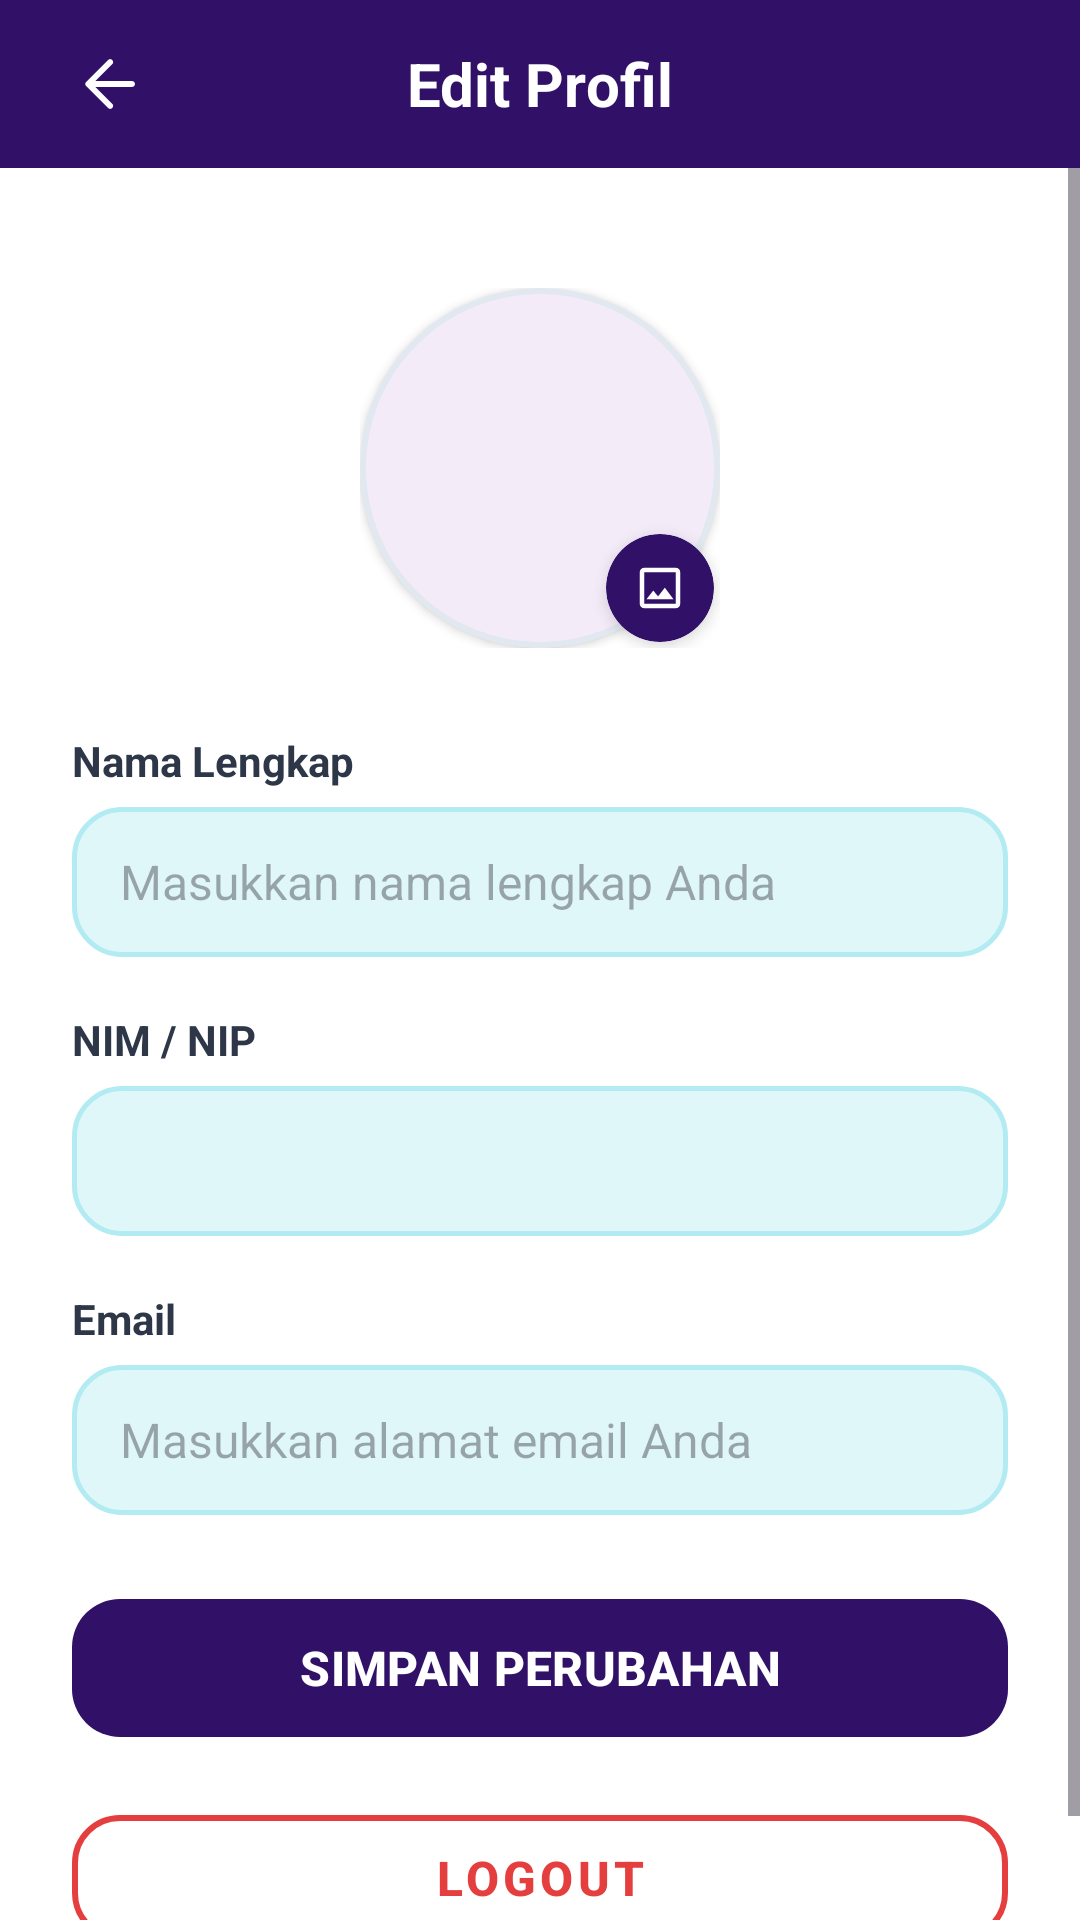

Icons on this 1080x1920 Android screen, each with the point to tap as point (x, y):
Kembali: point (110, 84)
